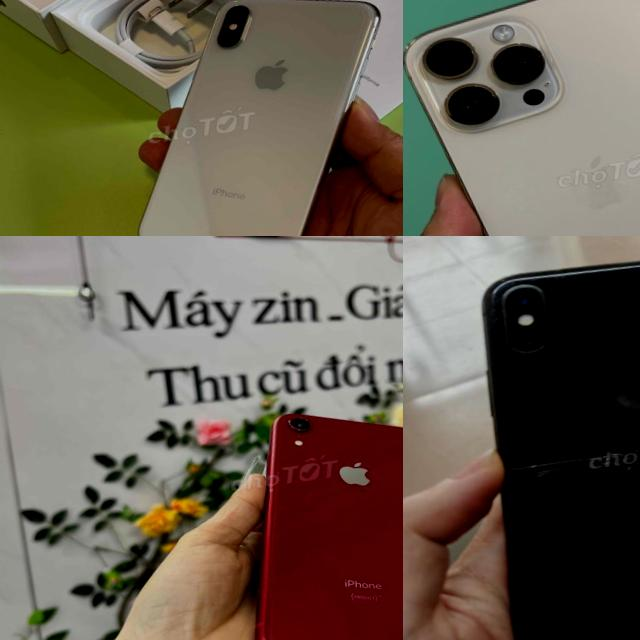gen_14: (403, 0, 640, 236)
gen_x_xs: (444, 236, 640, 640), (139, 0, 380, 236), (225, 387, 403, 640)
scratch: (492, 249, 640, 320), (556, 628, 616, 640)
